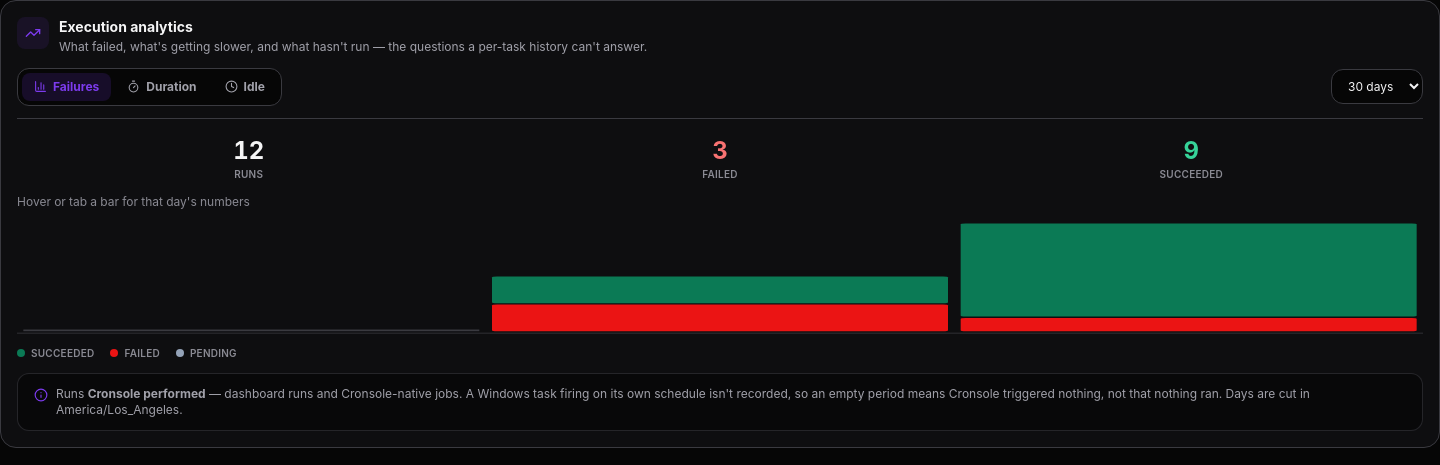
it: ExecutionAnalyticsTool › shows recent against baseline, not a bare ratio
Expected: the text "Runs" is shown, [234,168,263,180]
What coordinates should you click on to do the following:
click the tab "Duration"
I would click on:
 (162, 86)
Its box is [115,72,209,100].
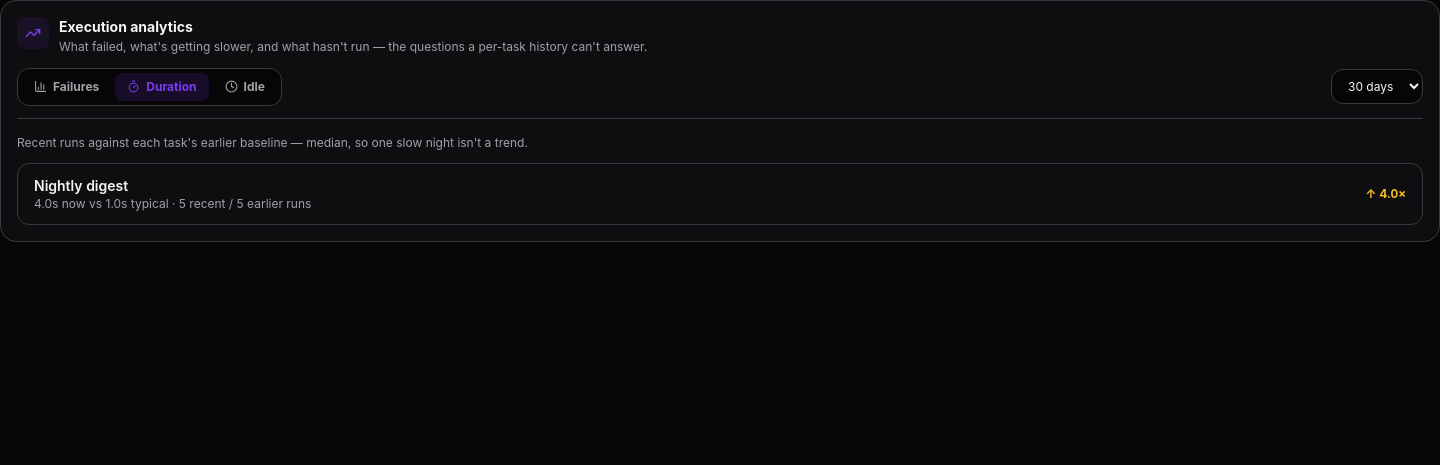
Result: the button "Nightly digest" is shown at [34,176,128,196]
Result: the text "4.0s now vs 1.0s typical · 5 recent / 5 earlier runs" is shown at [34,196,311,210]
Result: the text "↑ 4.0×" is shown at [1365,186,1406,202]
